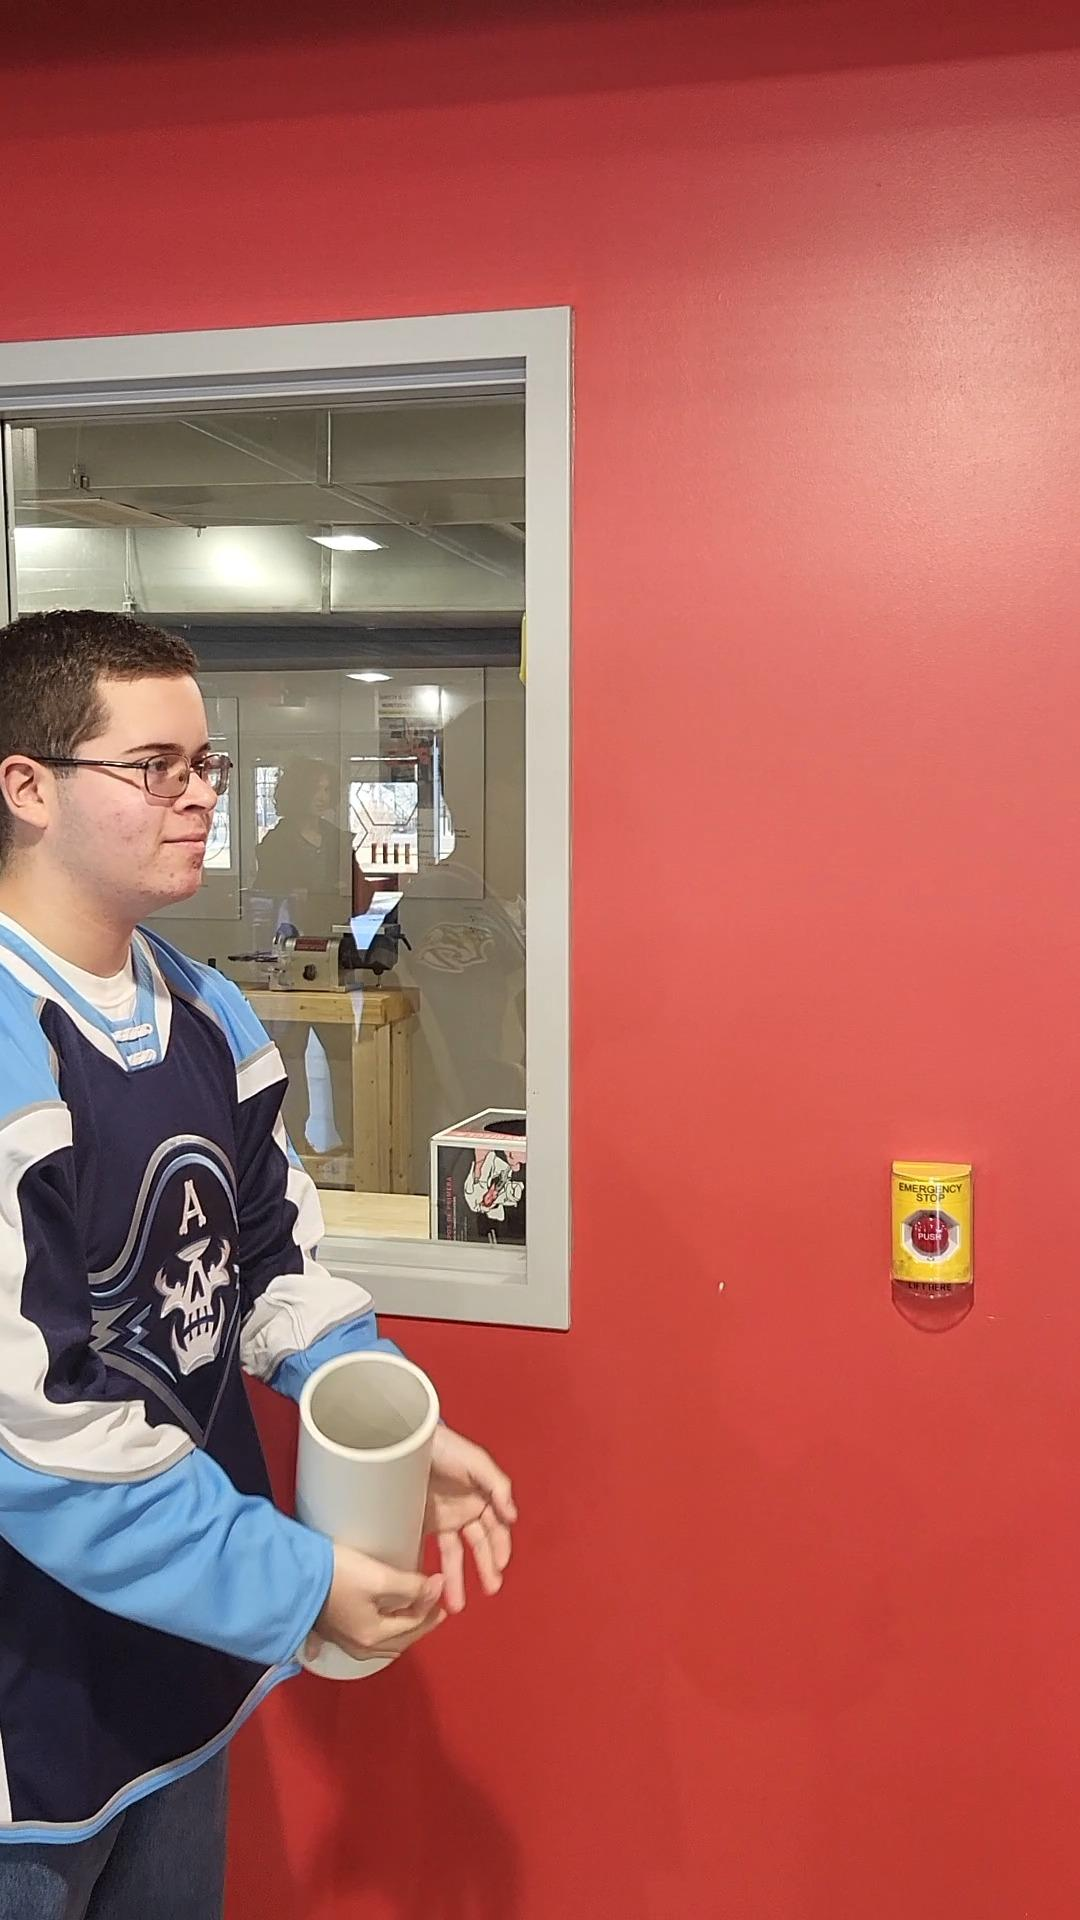coral: (280, 1344, 430, 1693)
